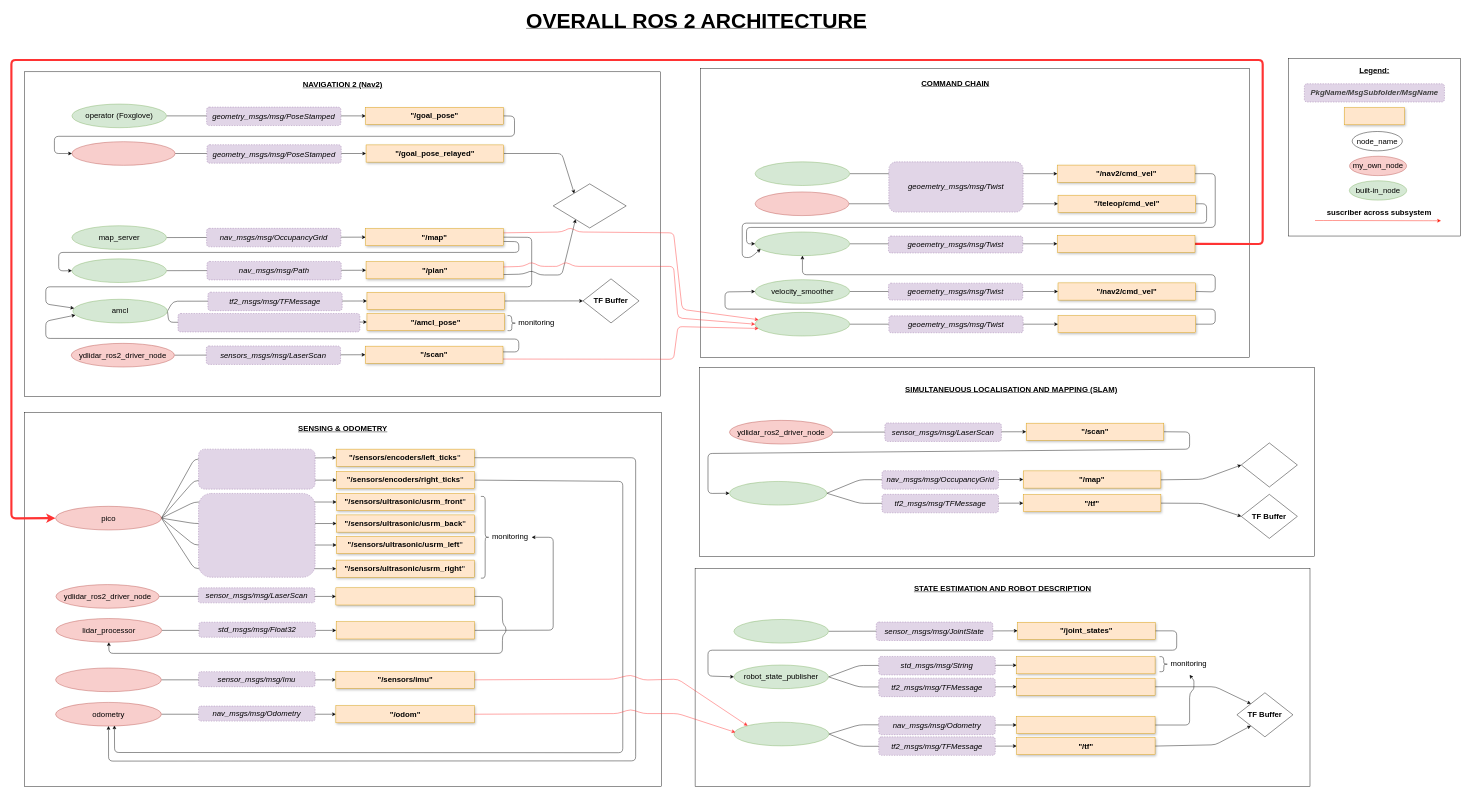
This 1468x794 diagram has some shape labels left out. The centre of each missing label's shape, as x and y in pixels:
"/cmd_vel": [1126,244]
"/cmd_vel_raw": [1127,324]
"/odometry/filtered": [1086,725]
"/robot_description": [1086,666]
"/scan ": [405,597]
"/sensors/lidar/closest_point": [405,631]
"/tf" (map to odom): [436,301]
"/tf_static": [1086,687]
"topic_name": [1374,116]
behaviour_server: [802,173]
bno085_i2c_node: [108,680]
bt_navigator: [589,205]
controller_server: [802,324]
ekf_filter_node: [781,734]
geometry_msgs/msg/PoseWithCovarianceStamped: [269,322]
goal_pose_relay: [123,153]
joint_state_publisher: [781,631]
planner_server: [119,270]
RViz: [1269,465]
sensors_msgs/msg/Range: [256,535]
slam_toolbox: [778,493]
std_msgs/msg/Int32: [256,469]
teleop: [802,204]
twist_mux: [802,244]
